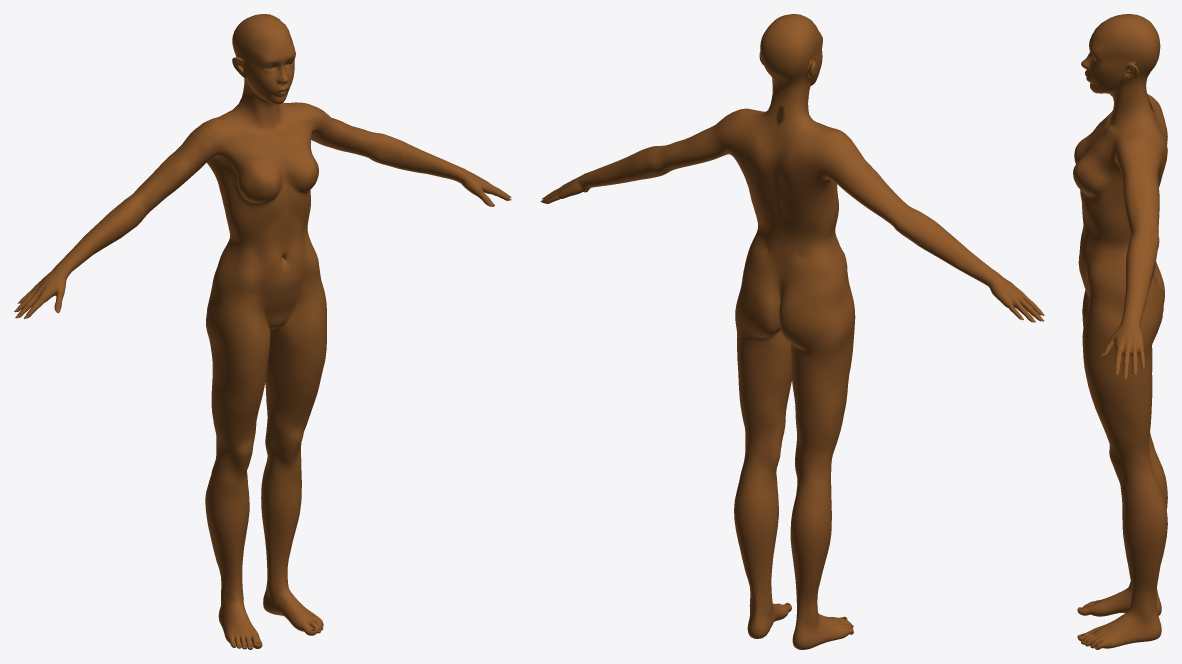
3 views of the same model, side by side, from view 1: azimuth 30°, elevation 25°; view 2: azimuth 150°, elevation 25°; view 3: azimuth 270°, elevation 25° (orthographic).
Visible parts, largest first — view 1: Body; view 2: Body; view 3: Body.
Boxes of the visible parts, bbox=[...] form: Body: bbox=[16, 14, 511, 649]; Body: bbox=[542, 14, 1041, 649]; Body: bbox=[1073, 14, 1167, 649].
Size of the model in its own units: 1.58 by 1.85 by 0.2597.
